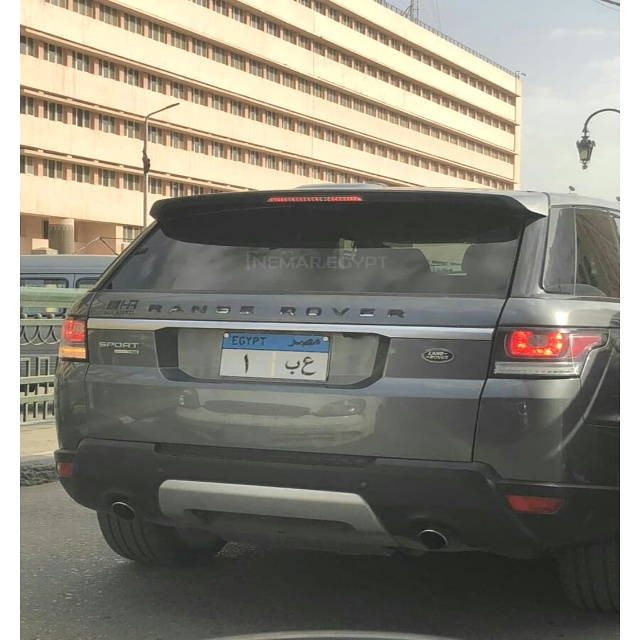License Plate: (215, 328, 335, 383)
